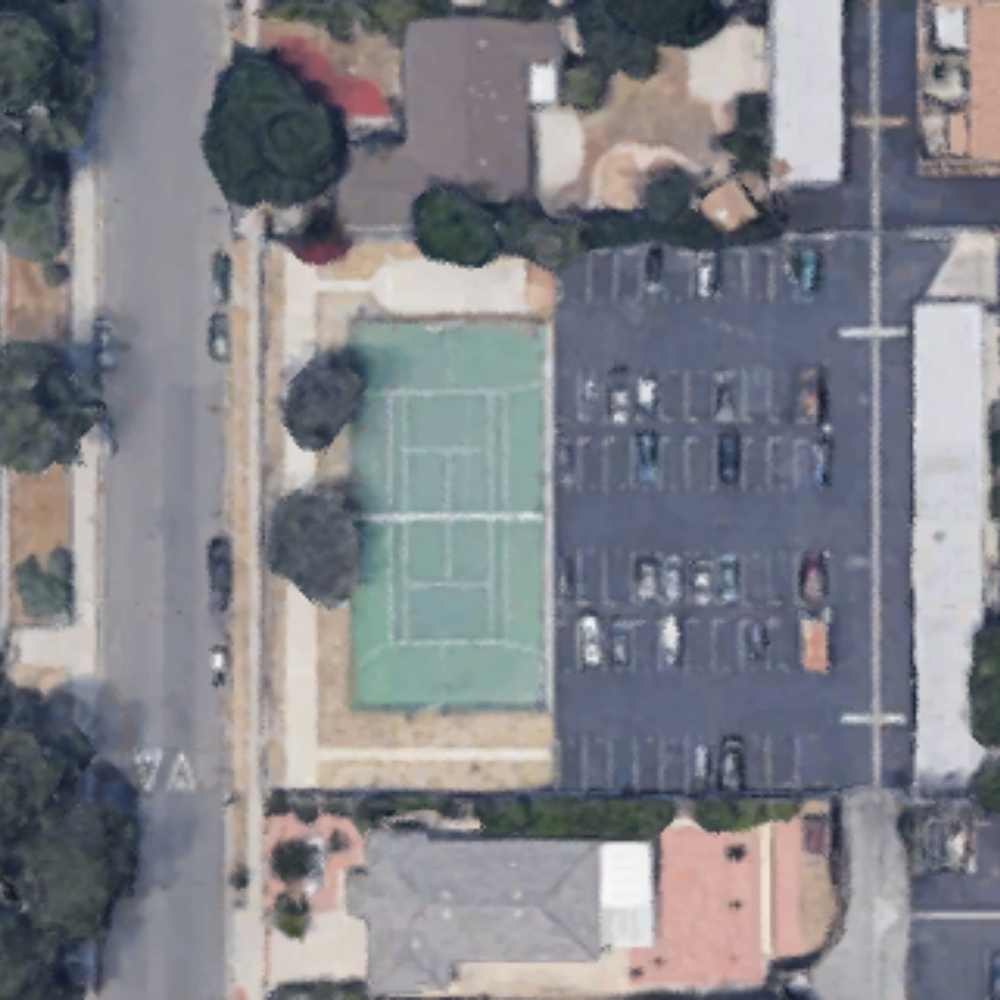parking: (555, 245, 840, 785)
